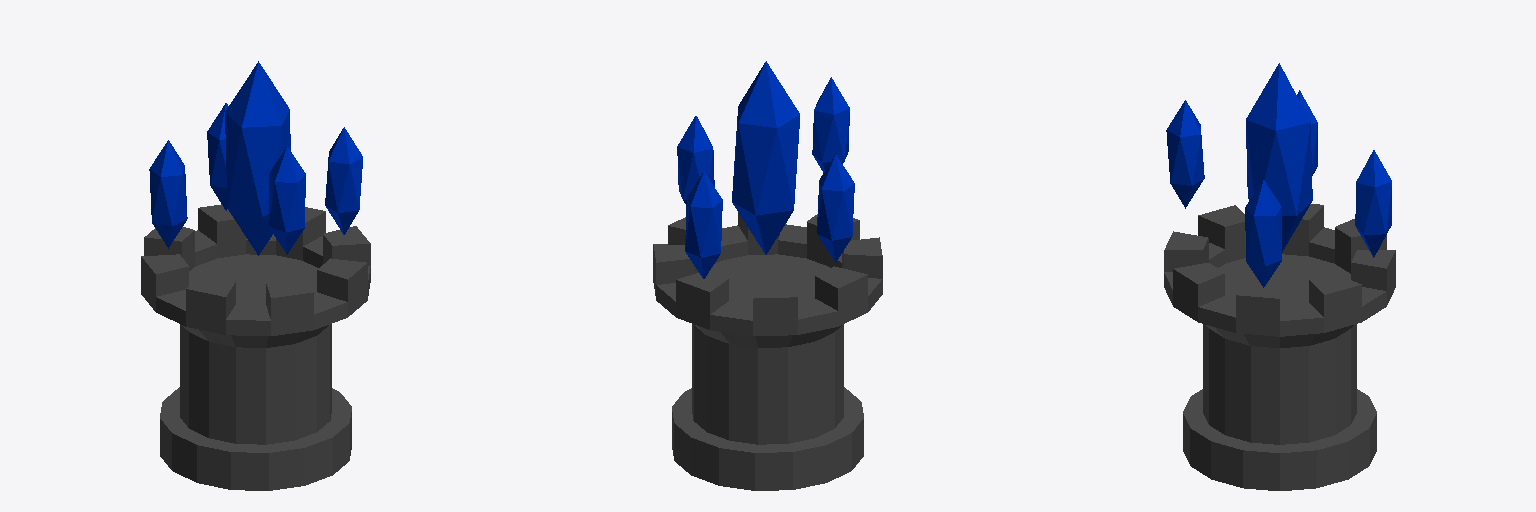
Rendered from wizard_tower.obj.
The picture shows the model from 3 angles: view 1: azimuth 30°, elevation 25°; view 2: azimuth 150°, elevation 25°; view 3: azimuth 270°, elevation 25°; orthographic projection.
Parts seen in each view (by area): view 1: Wizard_tower; view 2: Wizard_tower; view 3: Wizard_tower.
Part boxes in pixels (x1,y1,x2,y2): Wizard_tower: (141, 61, 370, 490); Wizard_tower: (653, 61, 882, 490); Wizard_tower: (1164, 63, 1395, 490).
Bounding box in the file's own units: 7.19 × 13.35 × 7.19.